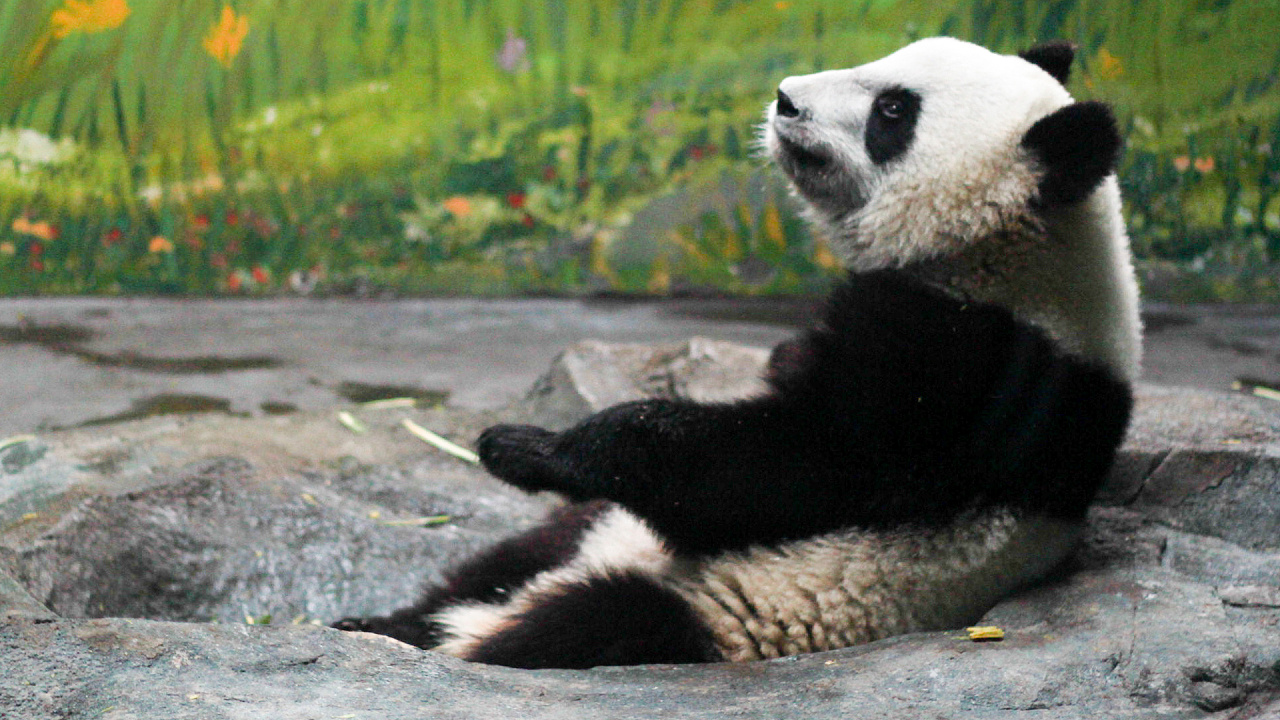panda: (442, 18, 1172, 667)
